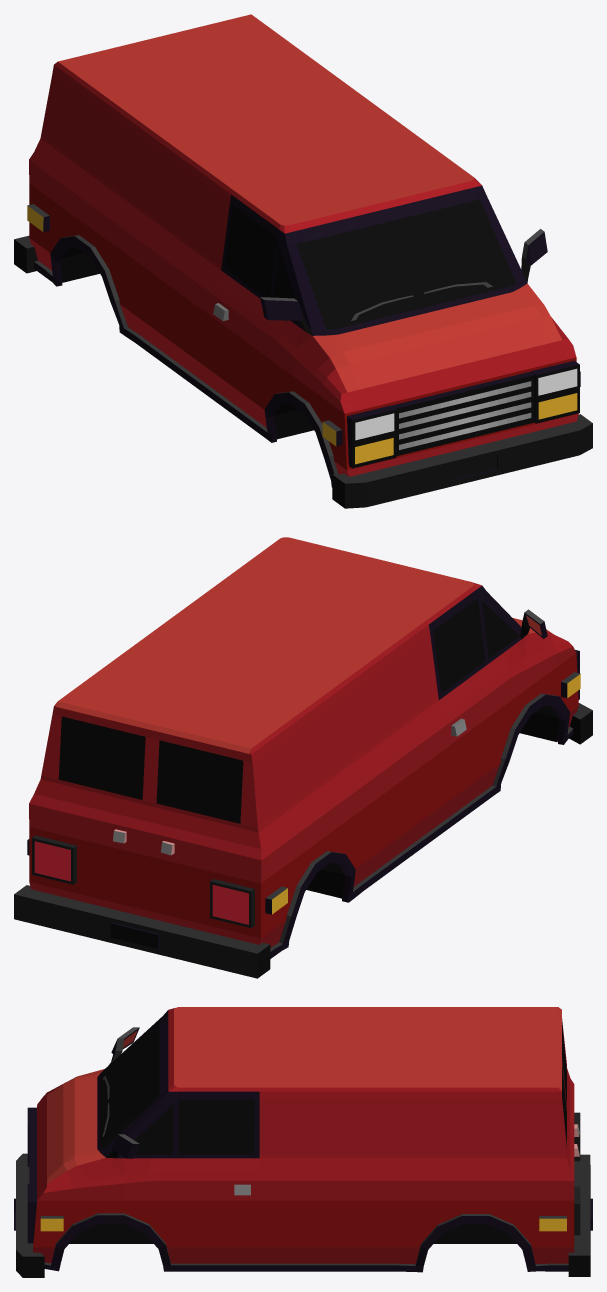
The model's file is Van.002.fbx.
3 renders of one model, top to bottom at view 1: azimuth 30°, elevation 25°; view 2: azimuth 150°, elevation 25°; view 3: azimuth 270°, elevation 25°, orthographic. The views are drawn at different scales.
Parts seen in each view (by area): view 1: Van.002; view 2: Van.002; view 3: Van.002.
Part boxes in pixels (<box>): Van.002: <box>14,14,592,508</box>; Van.002: <box>14,537,592,978</box>; Van.002: <box>14,1007,592,1277</box>.
Size of the model in its own units: 1.92 by 1.38 by 4.03.
